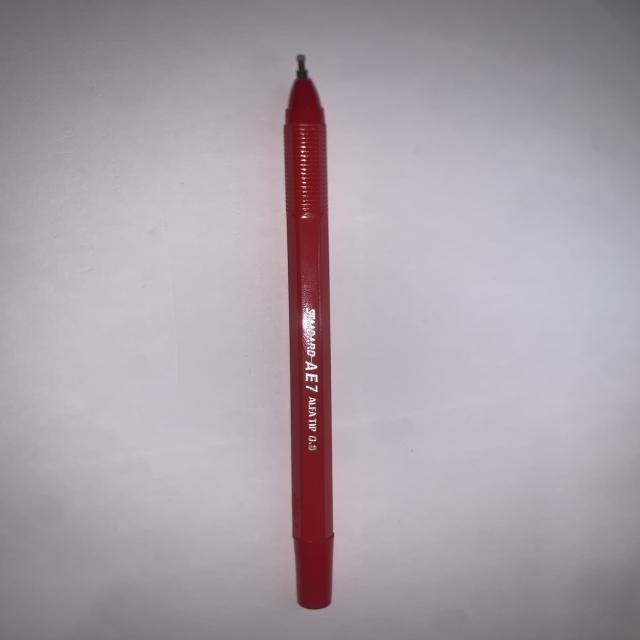Pulpen: (239, 51, 380, 621)
